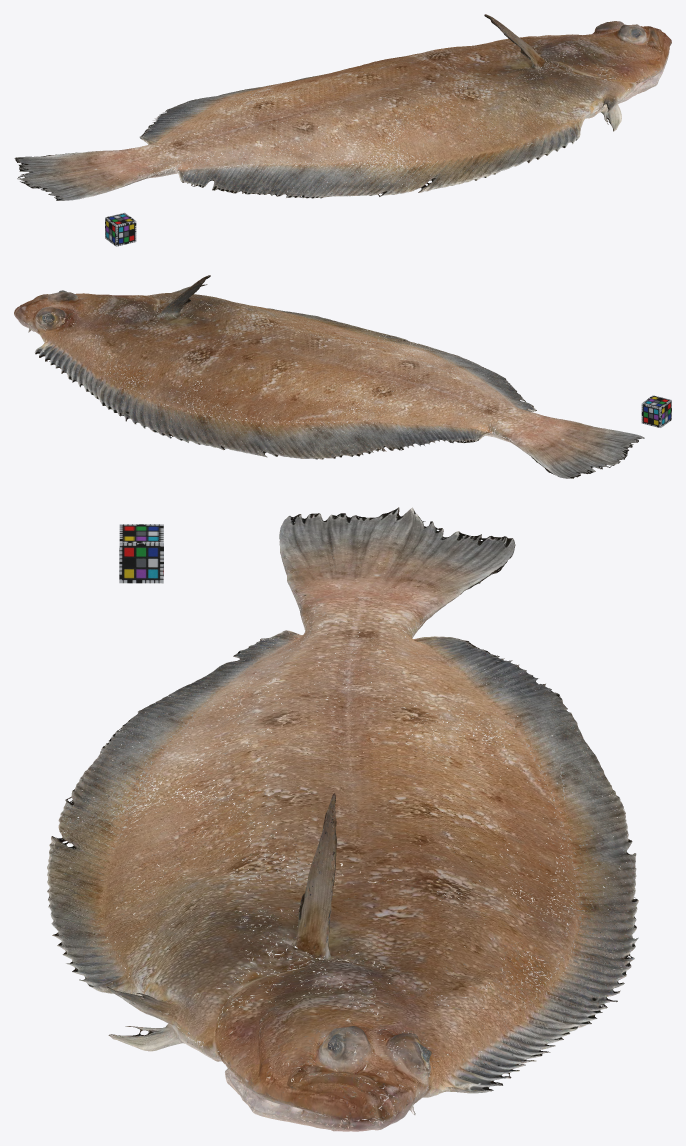
Rendered from scan_shottedhalibut.glb.
3 renders of one model, top to bottom at view 1: azimuth 30°, elevation 25°; view 2: azimuth 150°, elevation 25°; view 3: azimuth 270°, elevation 25°, orthographic. The views are drawn at different scales.
Visible parts, largest first — view 1: Object_21, Object_6, Object_14, Object_4; view 2: Object_6, Object_21, Object_14, Object_4; view 3: Object_6, Object_21, Object_14, Object_4.
Part boxes in pixels (x1,y1,x2,y2): Object_21: [14, 15, 671, 200]; Object_6: [21, 14, 669, 199]; Object_14: [15, 15, 671, 200]; Object_4: [105, 212, 136, 246]; Object_6: [14, 275, 636, 472]; Object_21: [14, 276, 644, 478]; Object_14: [14, 275, 644, 478]; Object_4: [641, 395, 671, 427]; Object_6: [47, 513, 638, 1131]; Object_21: [47, 507, 638, 1131]; Object_14: [47, 507, 638, 1131]; Object_4: [119, 524, 163, 583].
Bounding box in the file's own units: 19.92 × 3.99 × 8.29.
4 materials, 4 textured.
